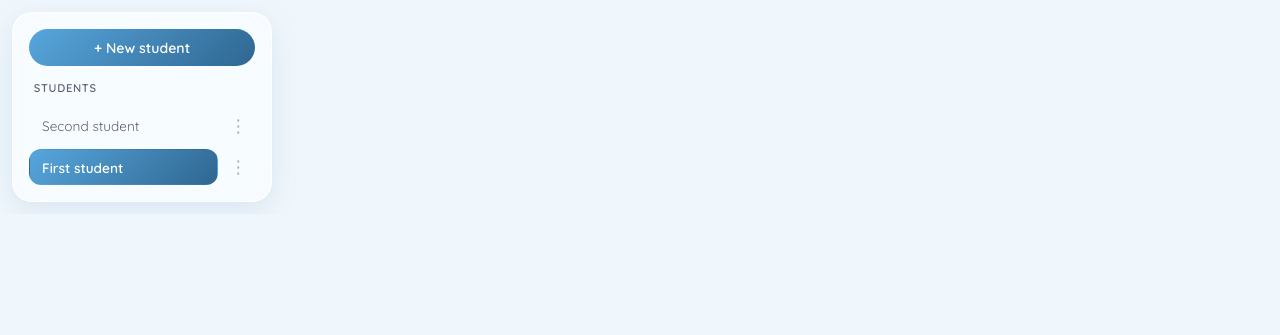
Sidebar › options menu › closes when clicking outside of it
Step 1. Click the button named "Options for First student" → point(238, 167), box [221,154,255,181]
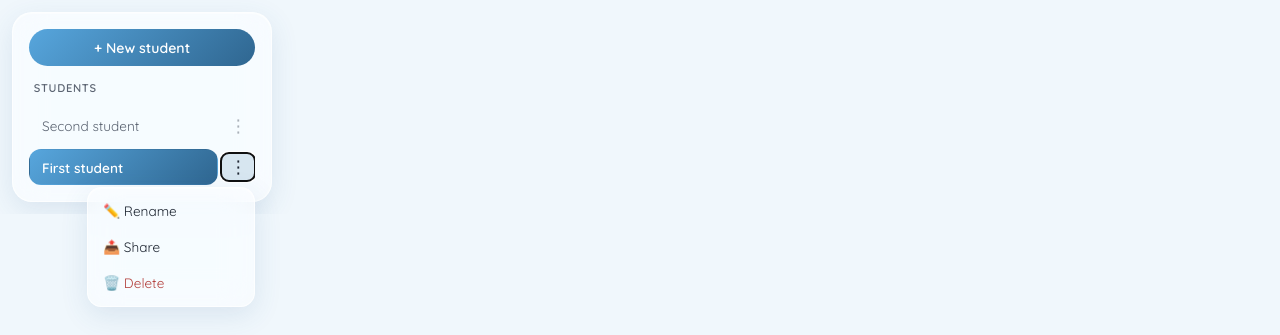
Check: the menu is shown, box [87,187,255,307]
Step 2. Click the element that starts with "+ New student" → point(51, 9), box [0,0,1279,214]
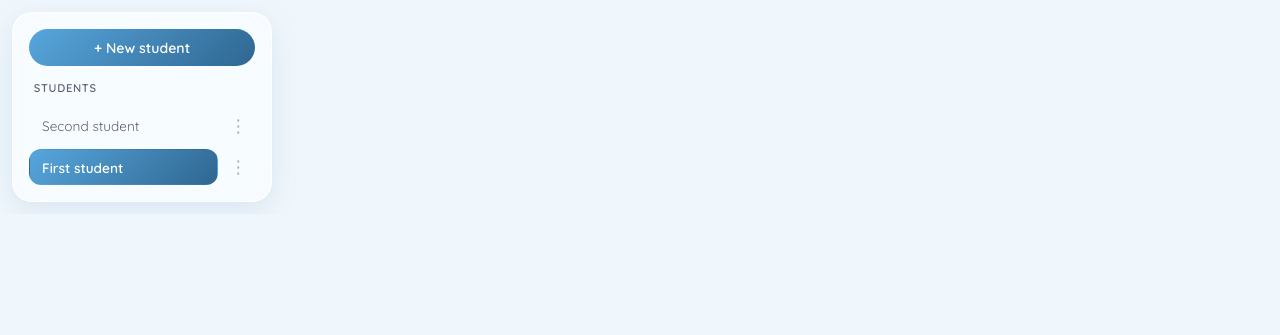
Check: the menu is gone
